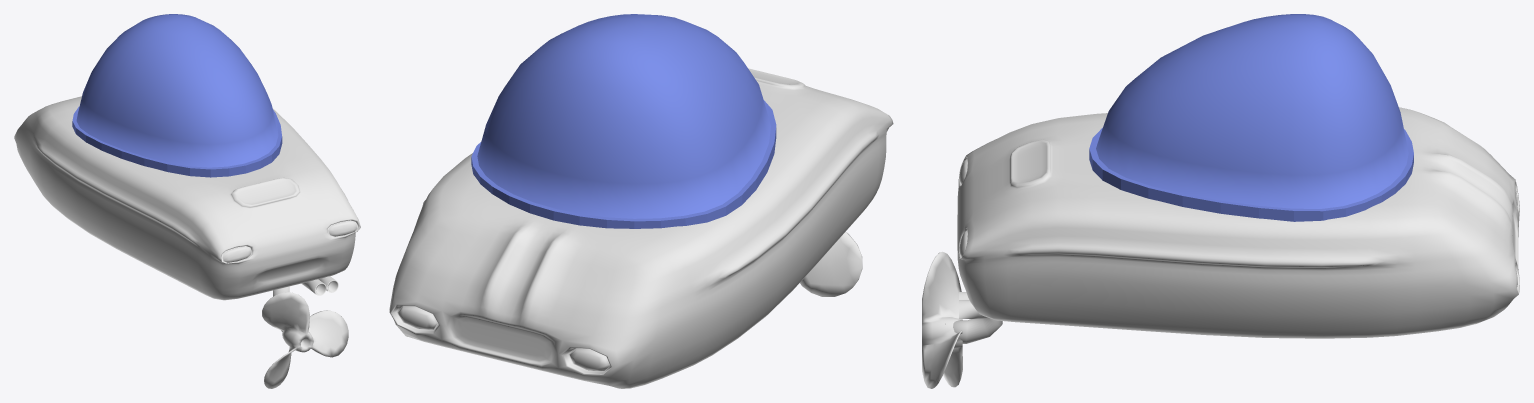
Rendered from UnderwaterPeel.fbx.
3 renders of one model, left to right at view 1: azimuth 30°, elevation 25°; view 2: azimuth 150°, elevation 25°; view 3: azimuth 270°, elevation 25°, orthographic. The views are drawn at different scales.
Parts seen in each view (by area): view 1: Body, Bubble, Fanblade, Exhaust; view 2: Body, Bubble, Fanblade; view 3: Body, Bubble, Fanblade, PropellorPivot.
Boxes of the visible parts, x1,y1,x2,y2 form: Body: [14, 96, 360, 300]; Bubble: [72, 14, 282, 177]; Fanblade: [262, 292, 348, 388]; Exhaust: [301, 276, 338, 295]; Body: [389, 68, 893, 388]; Bubble: [471, 14, 776, 228]; Fanblade: [800, 232, 862, 296]; Body: [957, 107, 1519, 338]; Bubble: [1089, 14, 1413, 221]; Fanblade: [922, 251, 962, 388]; PropellorPivot: [945, 319, 1002, 343].
Bounding box in the file's own units: 150 × 182 × 263.
